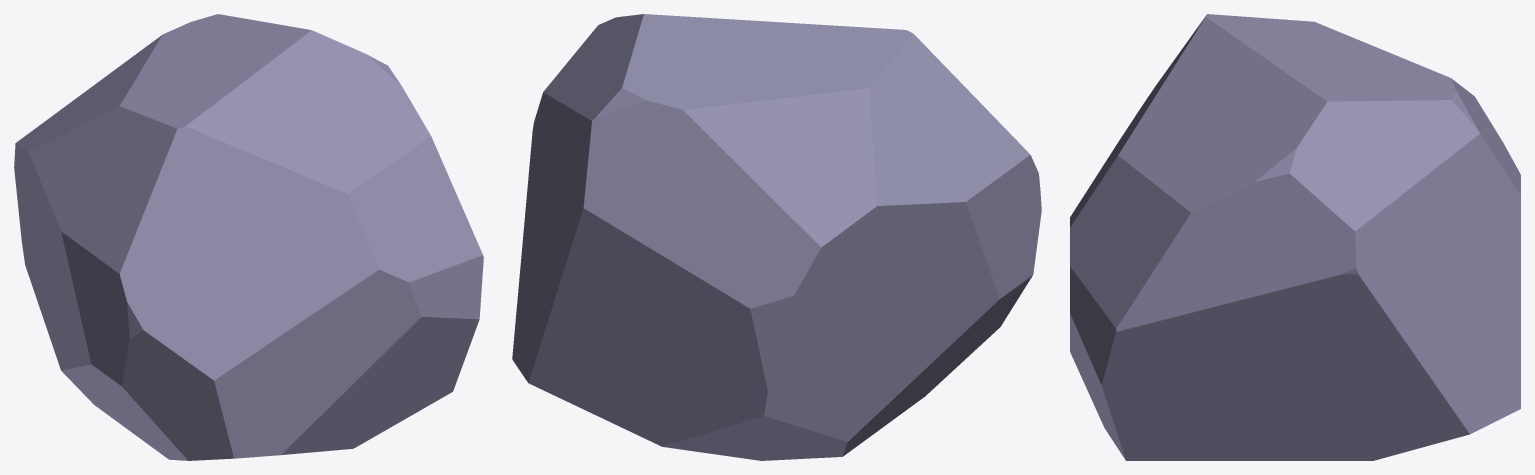
File: enchantedforest_rock_1.fbx
3 renders of one model, left to right at view 1: azimuth 30°, elevation 25°; view 2: azimuth 150°, elevation 25°; view 3: azimuth 270°, elevation 25°, orthographic. The views are drawn at different scales.
Parts seen in each view (by area): view 1: Cube; view 2: Cube; view 3: Cube.
Boxes of the visible parts, left/top/right/bottom form: Cube: left=14, top=14, right=483, bottom=460; Cube: left=512, top=14, right=1041, bottom=460; Cube: left=1070, top=14, right=1520, bottom=460.
Bounding box in the file's own units: 2 × 1.81 × 2.
